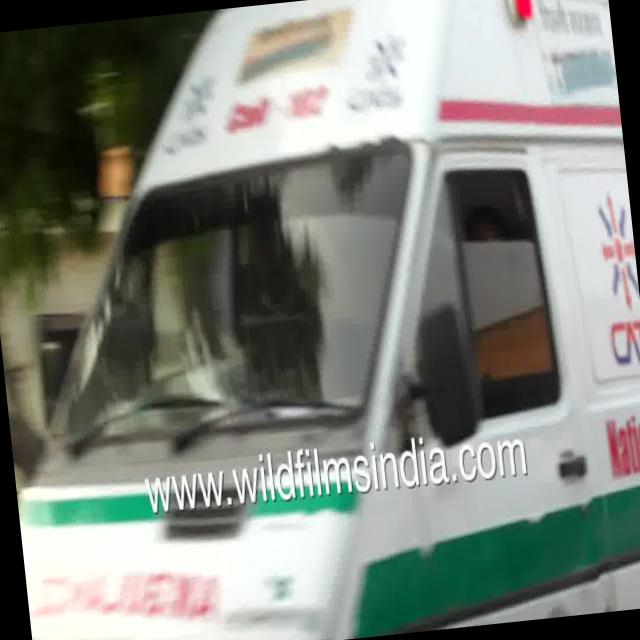ambulance: (66, 11, 640, 455), (54, 523, 272, 630), (42, 538, 220, 630)
